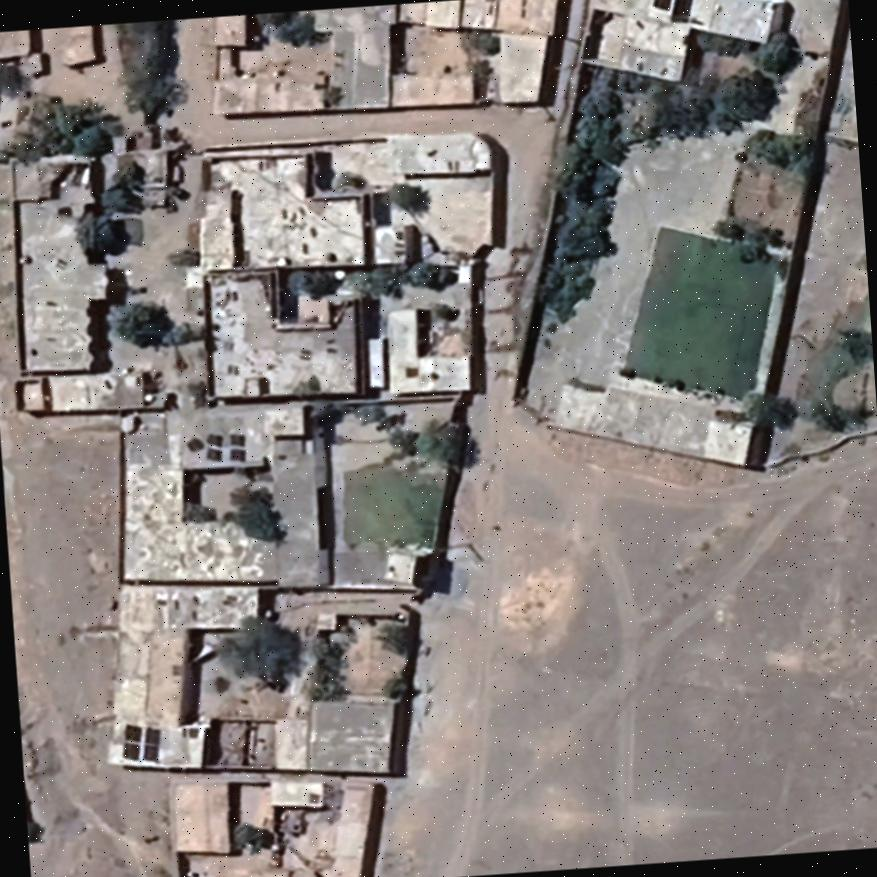Solarpanel: (187, 426, 250, 463), (116, 716, 162, 766)
